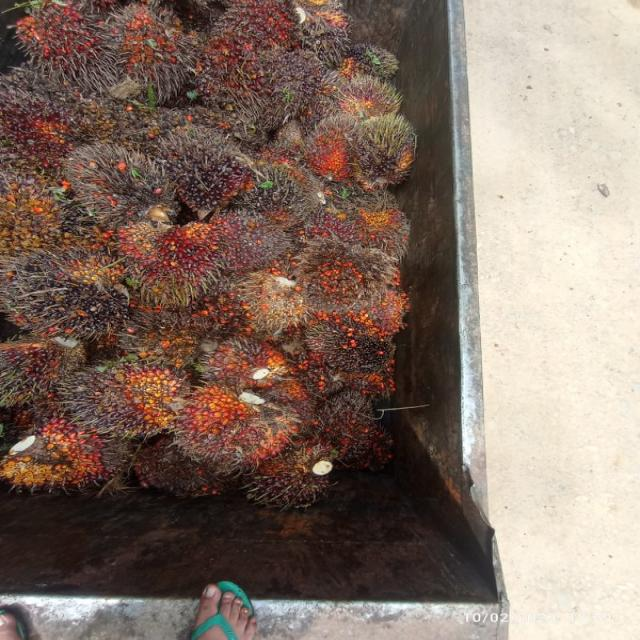fraksi 00: (62, 351, 196, 447), (0, 244, 129, 342), (156, 125, 253, 216), (246, 434, 345, 516), (308, 320, 409, 384), (221, 155, 320, 220), (352, 111, 419, 189), (296, 5, 362, 59), (341, 30, 401, 86)
fraksi 1: (0, 419, 132, 499), (118, 219, 226, 305), (185, 26, 272, 115), (1, 79, 85, 166), (326, 190, 411, 267), (206, 208, 279, 272), (266, 46, 322, 121), (216, 0, 296, 51)
fraksi 3: (166, 377, 268, 460), (301, 110, 376, 179)
fraksi 4: (59, 141, 172, 226), (97, 0, 188, 87), (303, 236, 393, 318), (0, 2, 101, 75)
